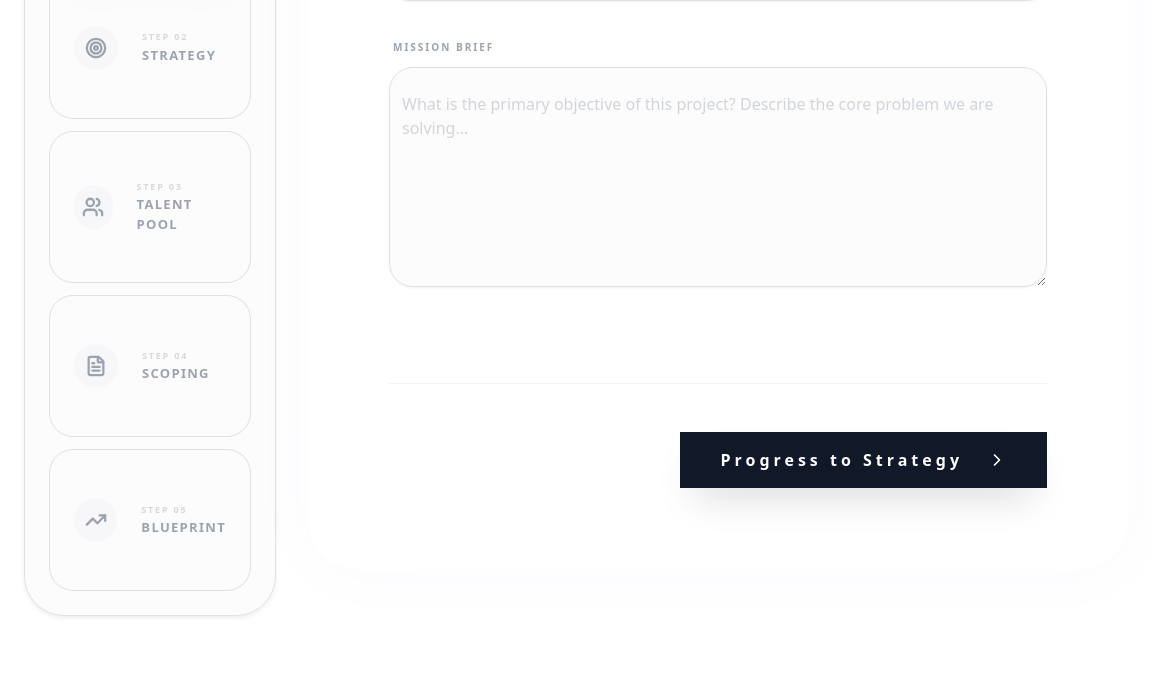
Scenario: ProjectGenesisWizard › affiche une erreur de validation si les champs sont vides
(page scrolled)
Click the button "Progress to Strategy" at (864, 460), box [680,432,1047,488]
(page scrolled)
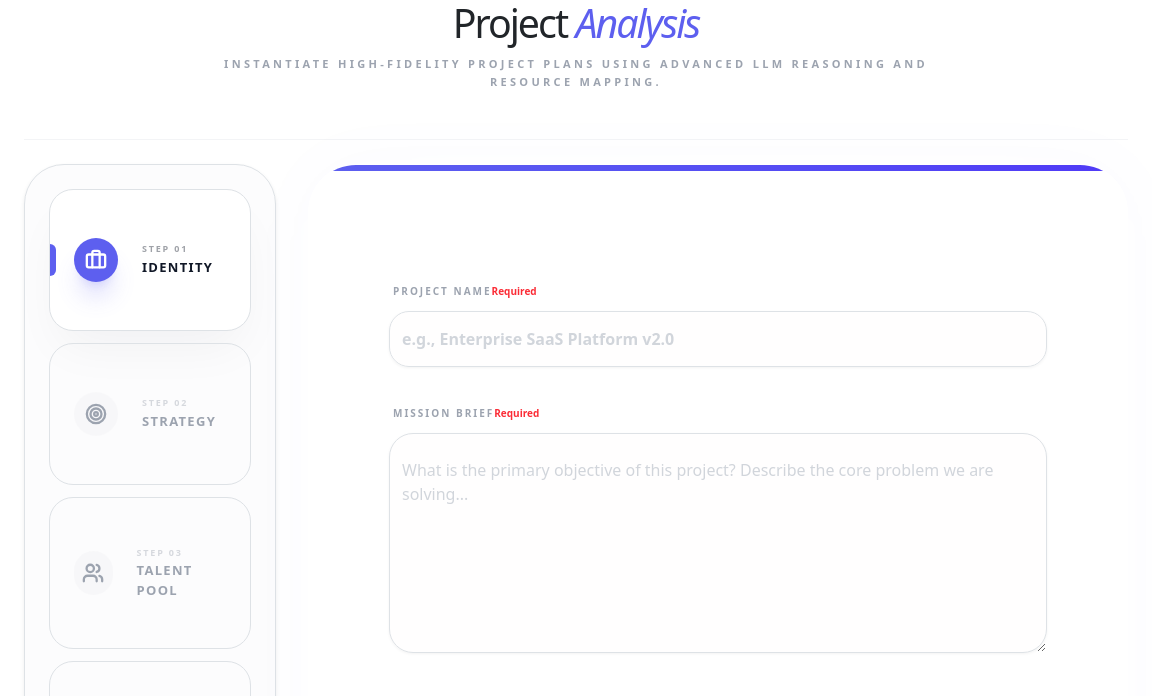
Check: the text "Required" next to "Project Name" is shown, box [492,284,537,298]
